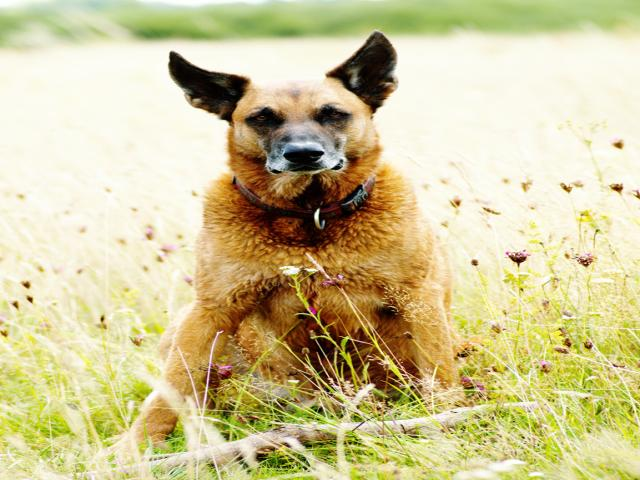Dog: (105, 29, 499, 457)
